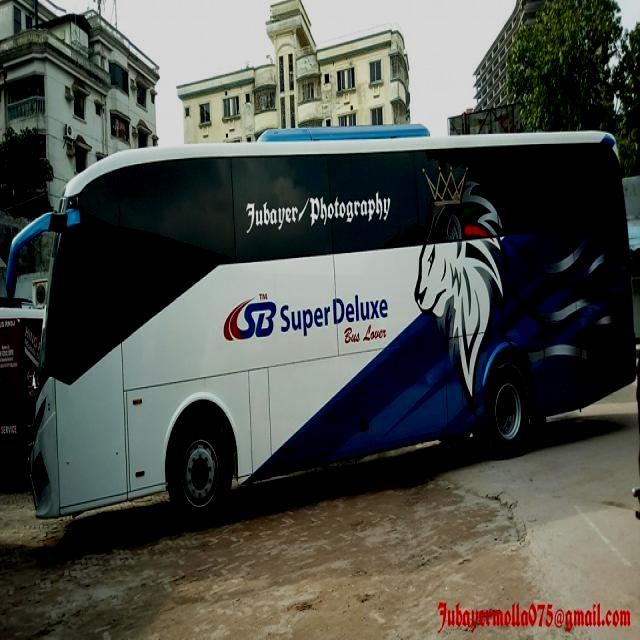bus: (6, 123, 637, 536)
